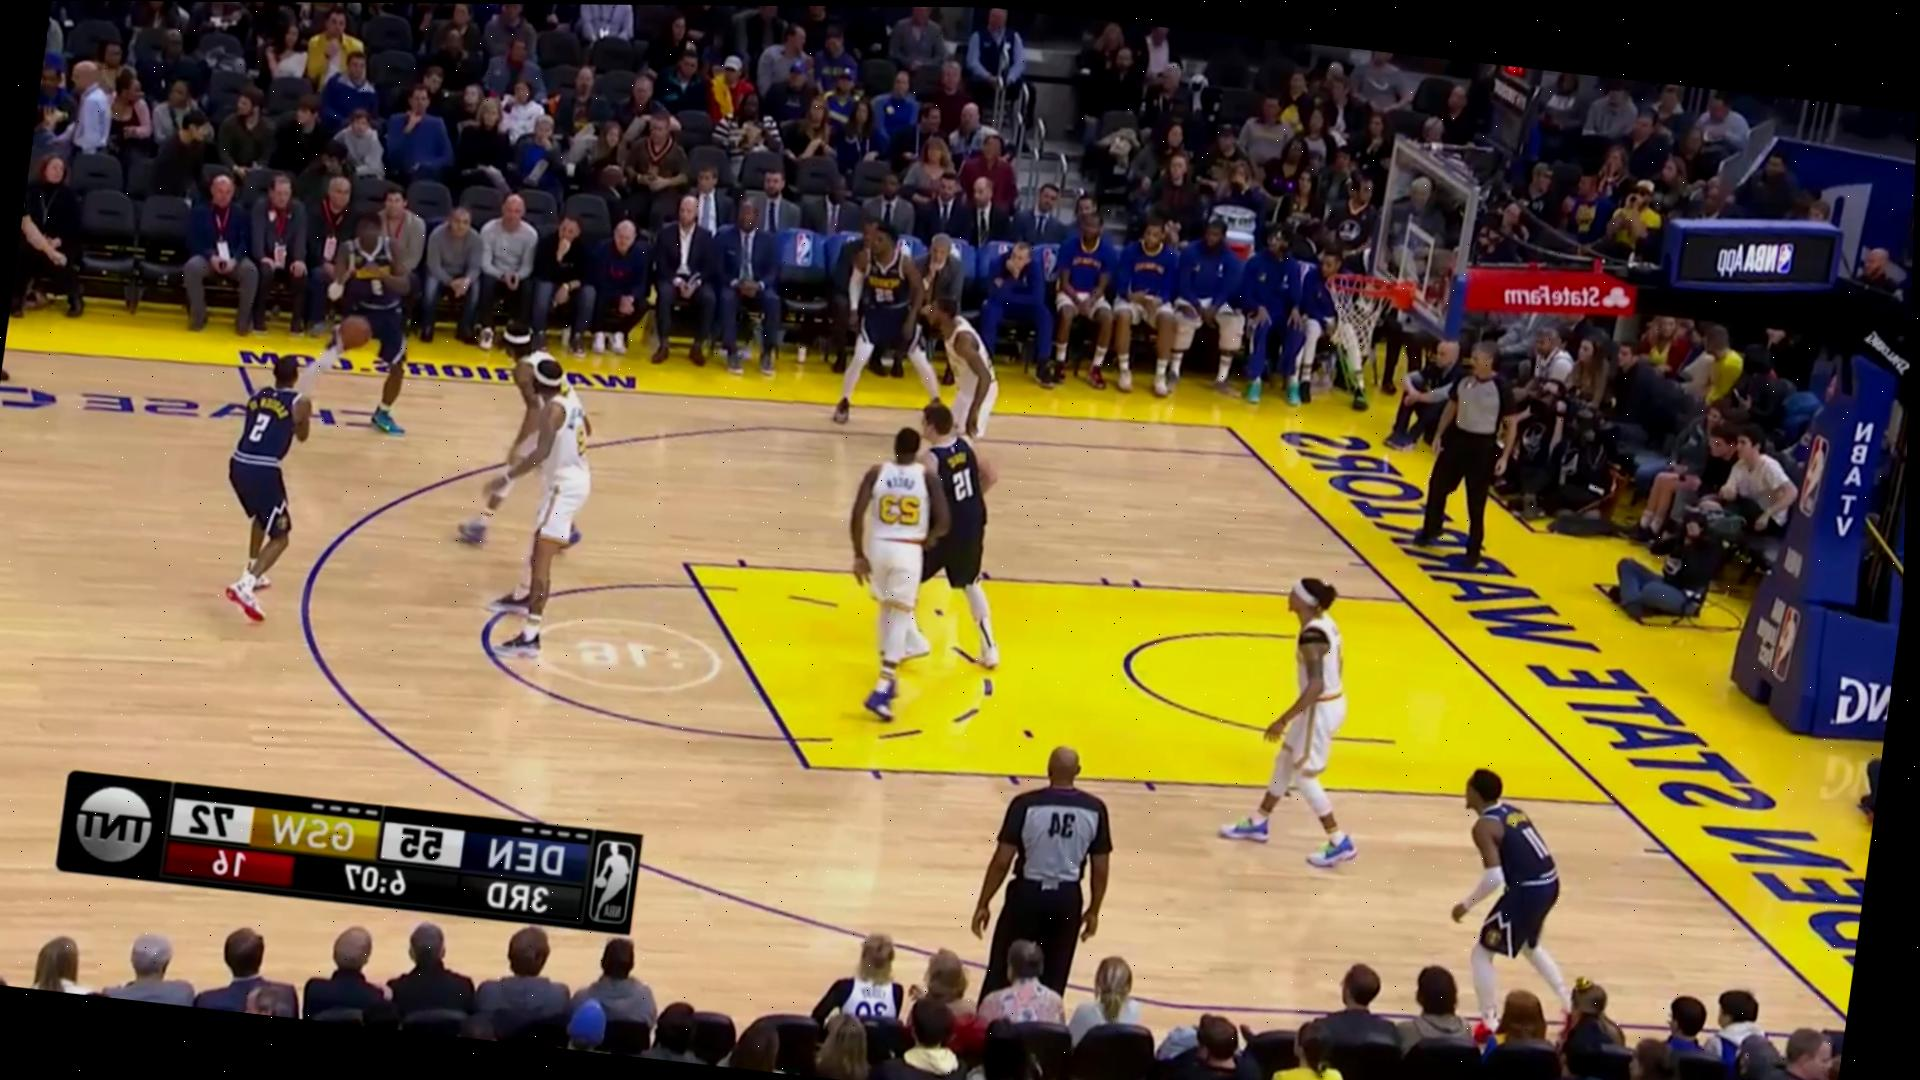no_foul: (802, 389, 1010, 736)
